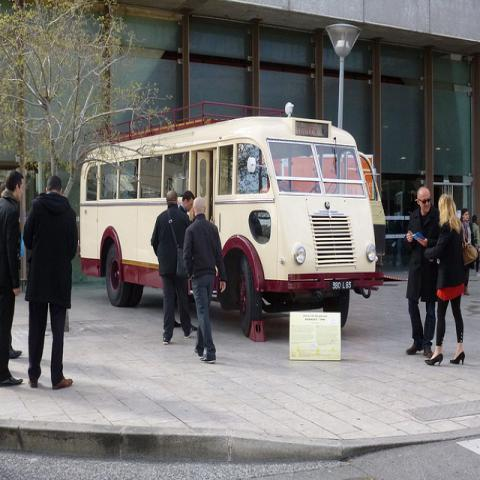bus: (79, 98, 389, 345)
